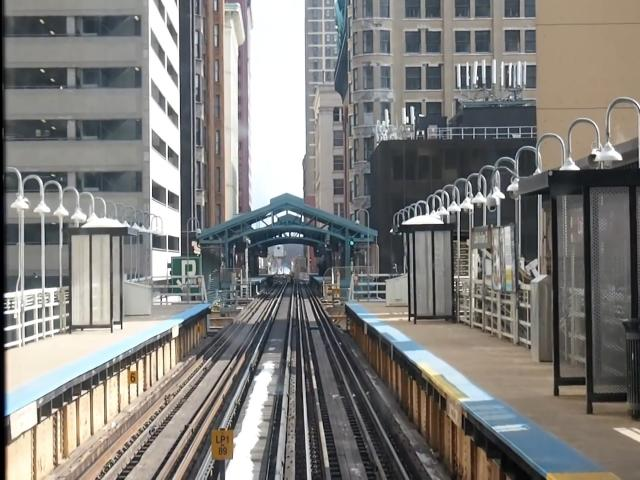signal light: (350, 240, 356, 264)
